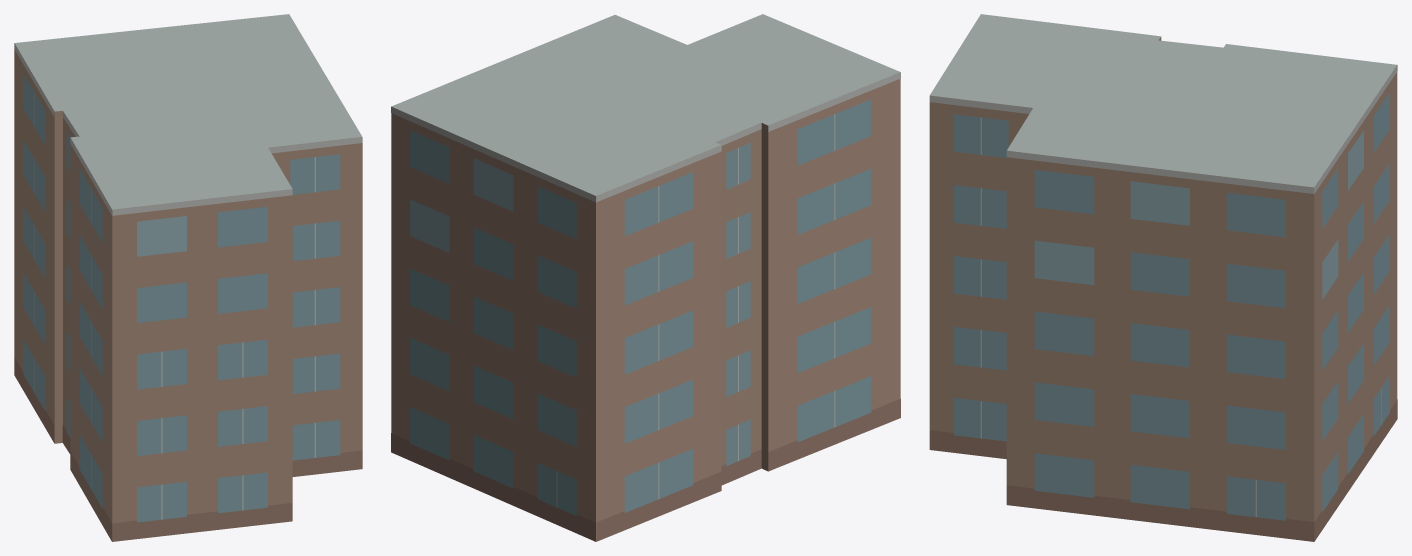
File: survey-upis-32878854.glb
The picture shows the model from 3 angles, left to right: view 1: azimuth 30°, elevation 25°; view 2: azimuth 150°, elevation 25°; view 3: azimuth 270°, elevation 25°; orthographic projection. The views are drawn at different scales.
Visible parts, largest first — view 1: survey-upis-32878854.tmp; view 2: survey-upis-32878854.tmp; view 3: survey-upis-32878854.tmp.
Boxes of the visible parts, <box> form: survey-upis-32878854.tmp: <box>14,14,362,541</box>; survey-upis-32878854.tmp: <box>391,14,900,541</box>; survey-upis-32878854.tmp: <box>929,14,1397,541</box>.
Size of the model in its own units: 13.87 by 13.2 by 15.8.
